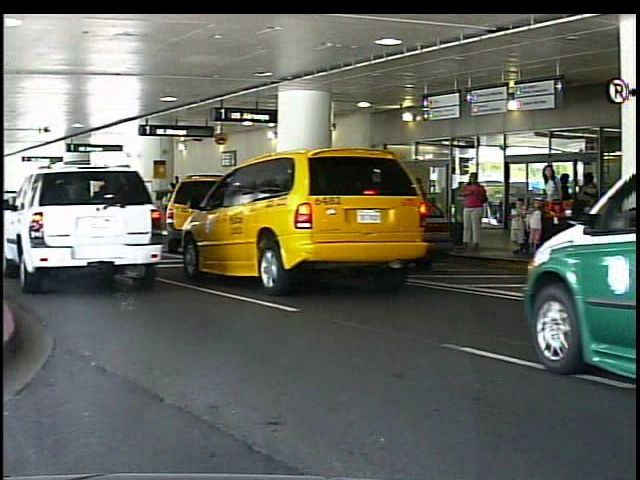person: (461, 169, 489, 255), (542, 163, 567, 240), (582, 170, 607, 239), (558, 172, 578, 242), (514, 198, 534, 254), (529, 202, 546, 255)
